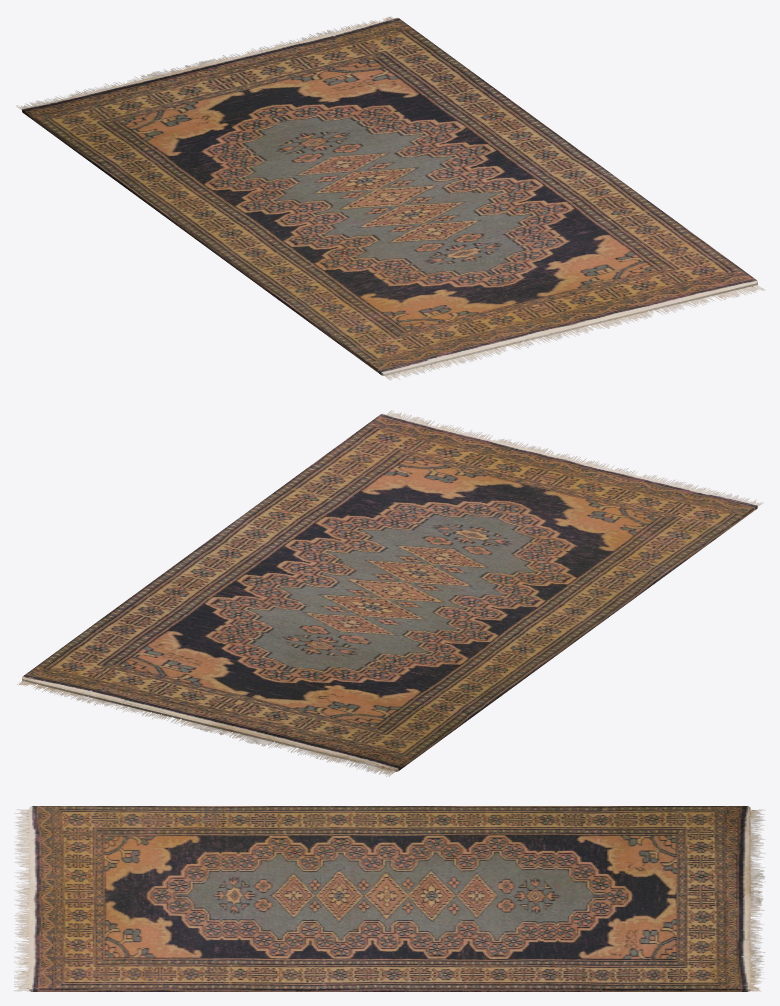
File: rug1.glb
The picture shows the model from 3 angles, top to bottom: view 1: azimuth 30°, elevation 25°; view 2: azimuth 150°, elevation 25°; view 3: azimuth 270°, elevation 25°; orthographic projection.
Visible parts, largest first — view 1: rug01_MDL_nar_blinn2_0; view 2: rug01_MDL_nar_blinn2_0; view 3: rug01_MDL_nar_blinn2_0.
Part boxes in pixels (<box>): rug01_MDL_nar_blinn2_0: <box>16,16,765,380</box>; rug01_MDL_nar_blinn2_0: <box>17,410,764,777</box>; rug01_MDL_nar_blinn2_0: <box>14,806,765,991</box>.
Size of the model in its own units: 300 by 2.16 by 521.
Materials: 1 (1 with a texture image).
